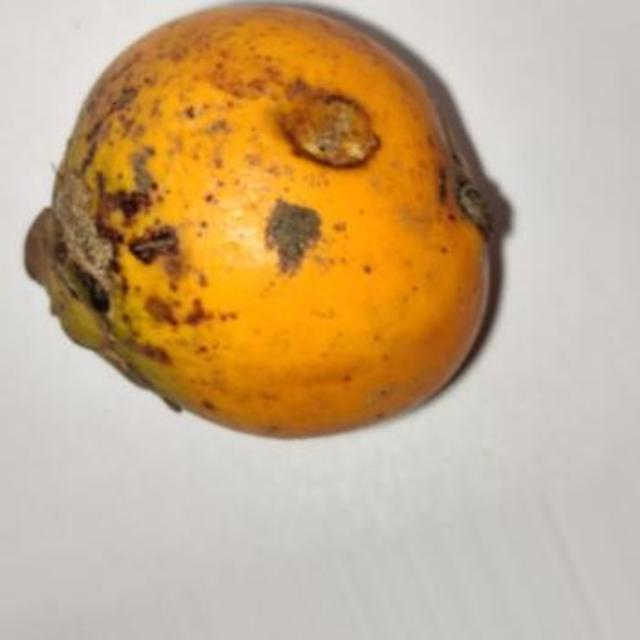good: (24, 4, 499, 443)
